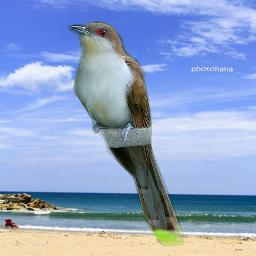Cuckoo: (68, 21, 184, 247)
